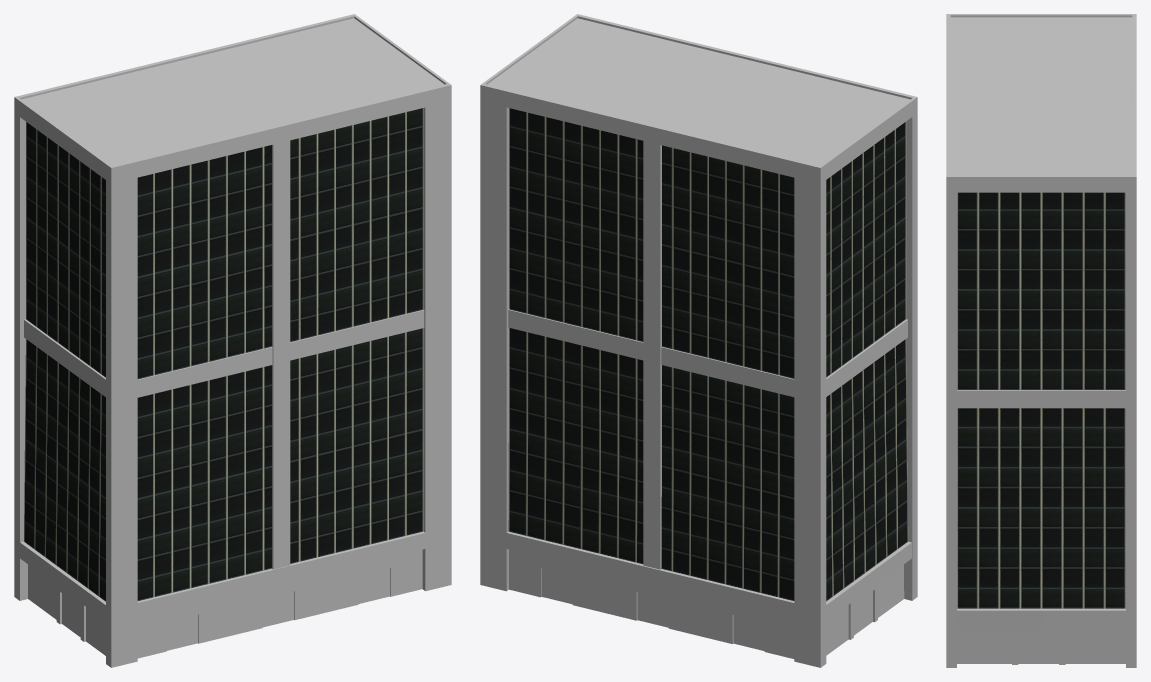
3 renders of one model, left to right at view 1: azimuth 30°, elevation 25°; view 2: azimuth 150°, elevation 25°; view 3: azimuth 270°, elevation 25°, orthographic.
Parts seen in each view (by area): view 1: BB-064; view 2: BB-064; view 3: BB-064.
Boxes of the visible parts, left/top/right/bottom form: BB-064: left=14, top=14, right=451, bottom=667; BB-064: left=480, top=14, right=917, bottom=667; BB-064: left=946, top=14, right=1136, bottom=667.
Size of what is drawn, in the model's own units: 30.48 by 42.79 by 15.06.
